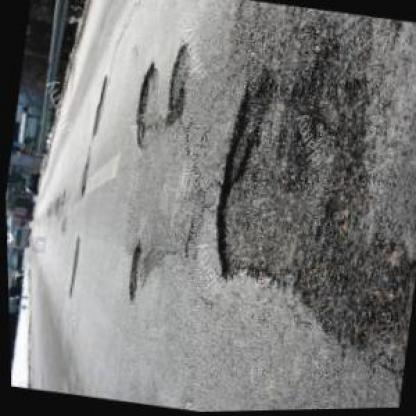pothole: (196, 21, 395, 306), (157, 39, 197, 130), (127, 58, 161, 151), (86, 72, 110, 146), (122, 240, 143, 304), (61, 234, 80, 301), (75, 150, 93, 200), (56, 187, 65, 207)
